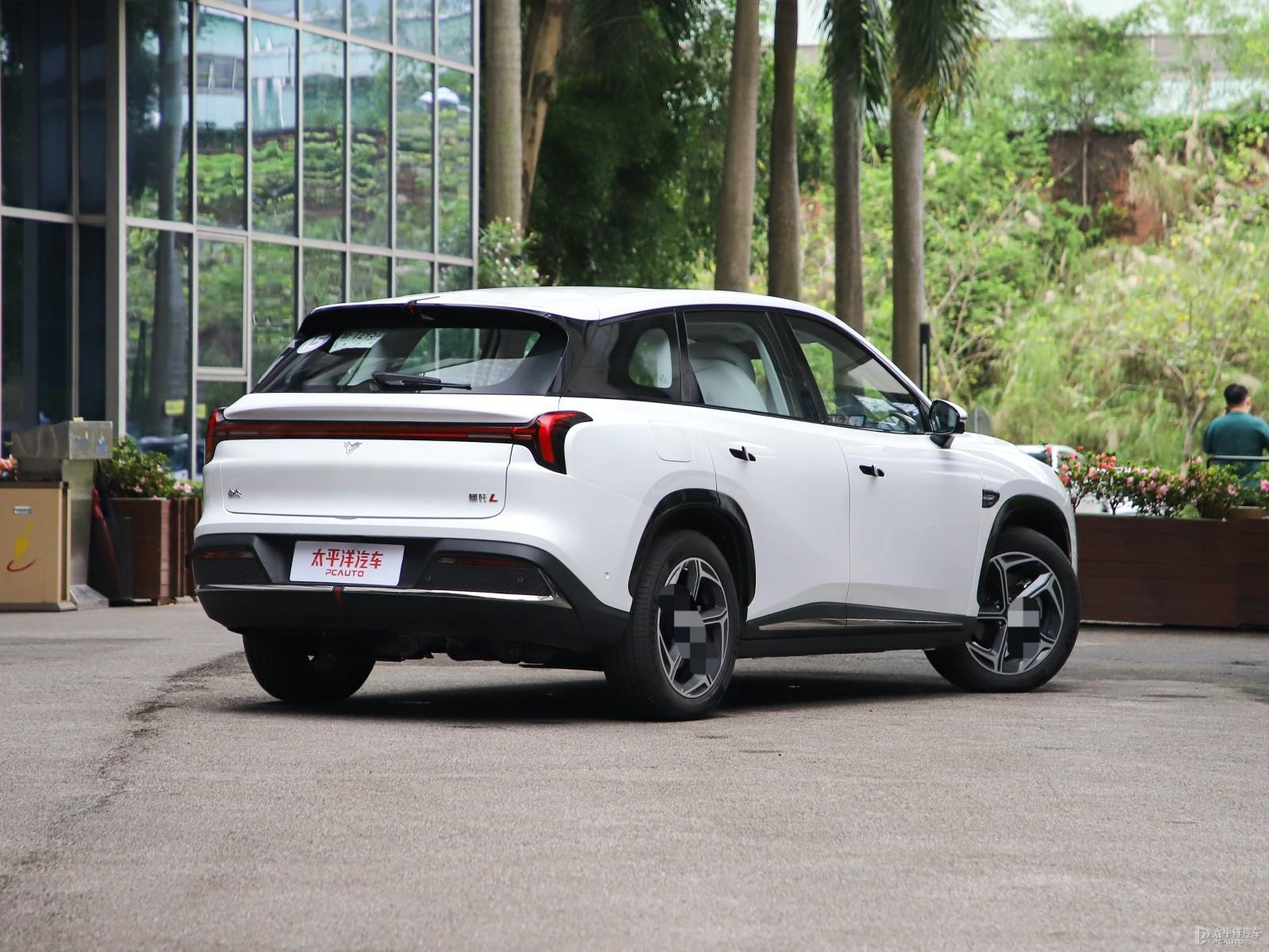NETA: (340, 440, 366, 456)
